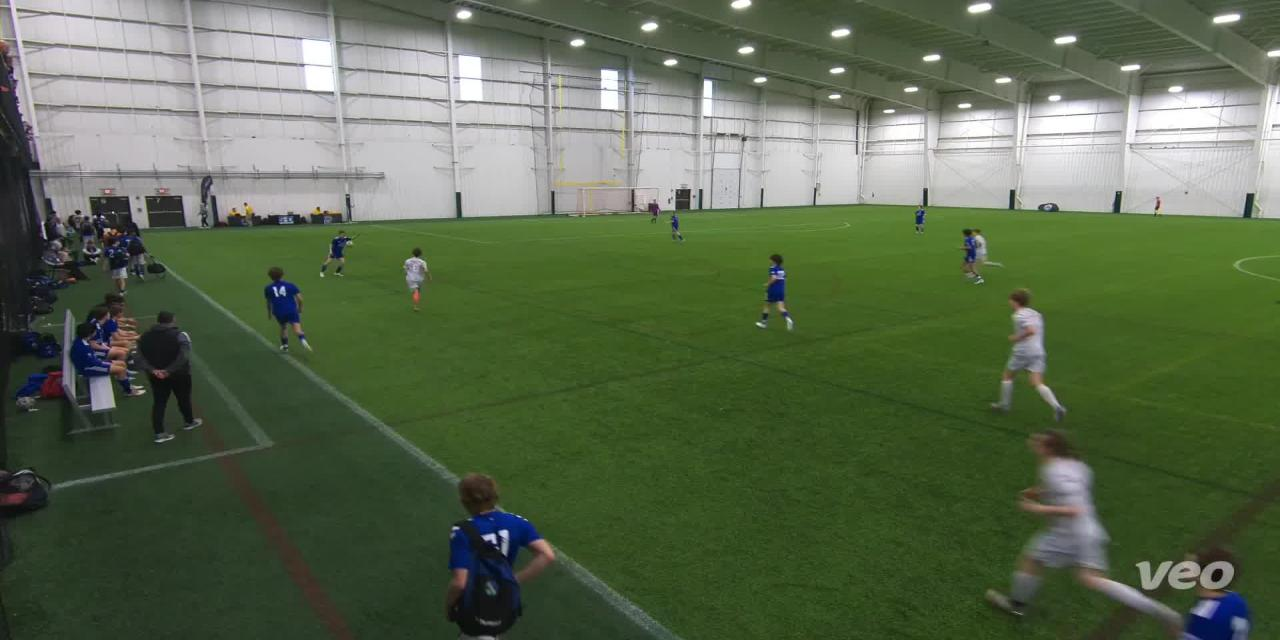goal: (568, 182, 670, 221)
sports ball: (343, 237, 358, 251)
